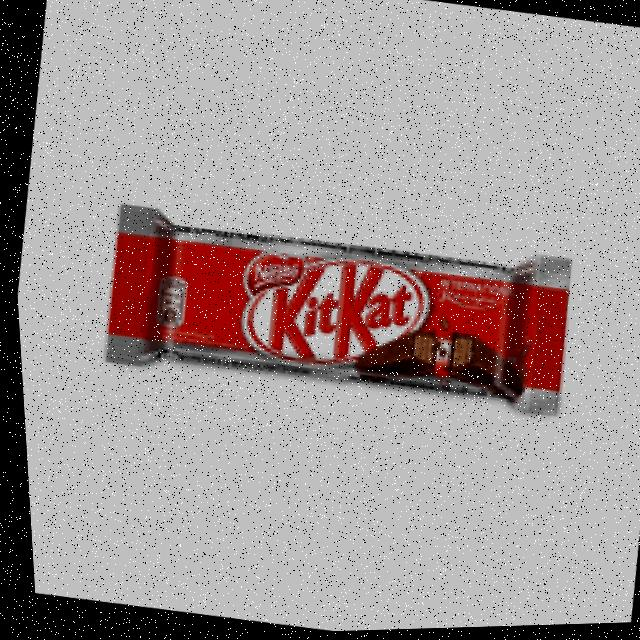kitkat: (92, 190, 581, 437)
